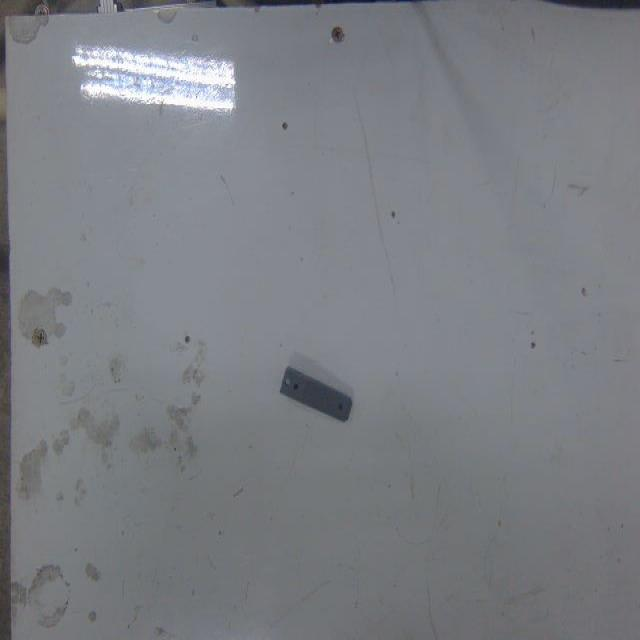grey: (282, 365, 353, 430)
head: (337, 402, 343, 412)
